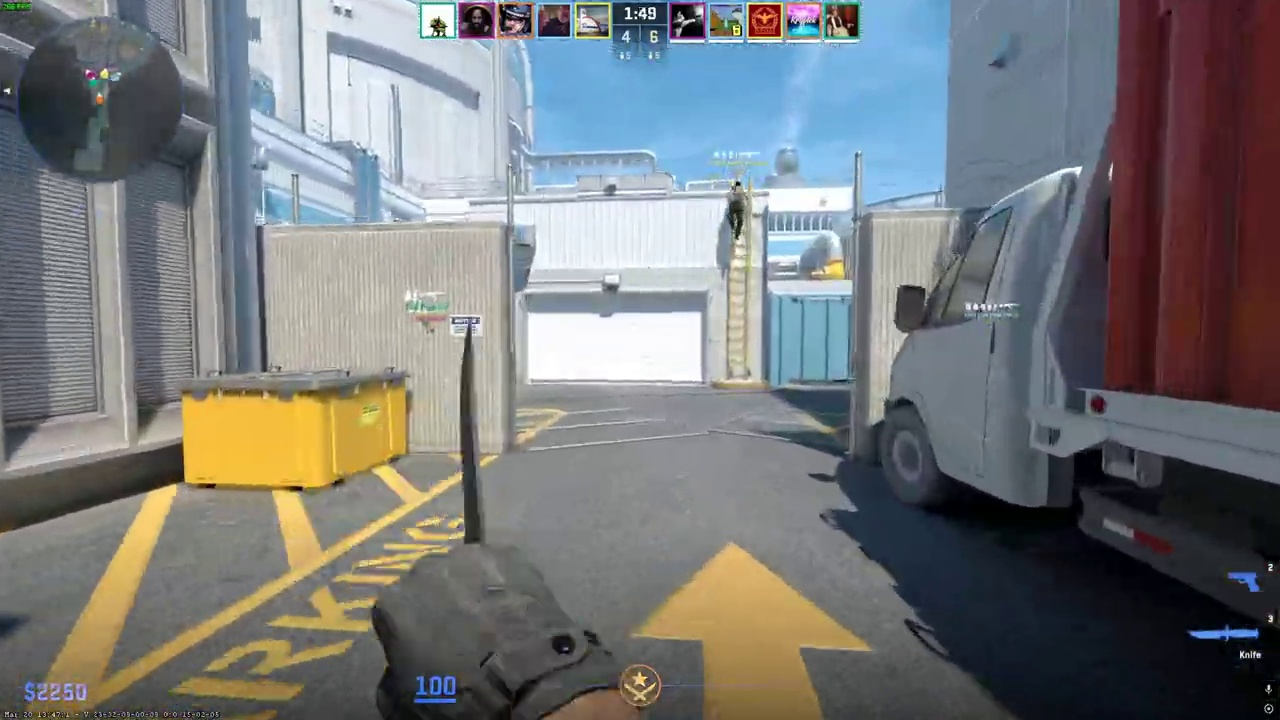Terrorist: (726, 181, 748, 240)
